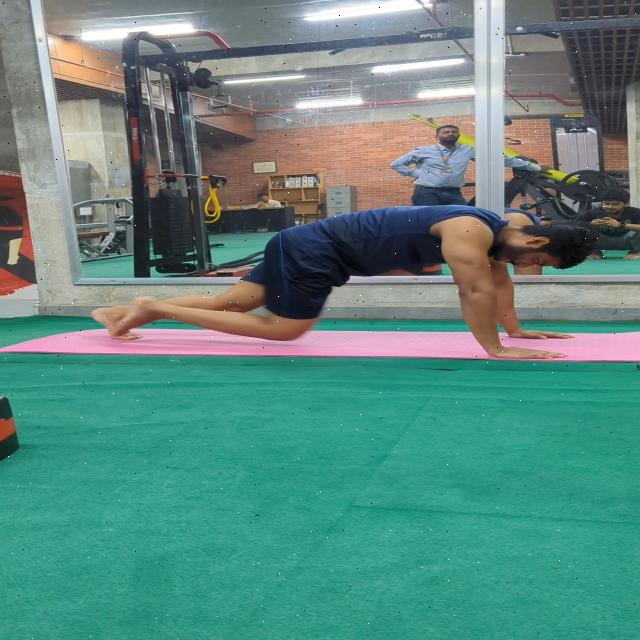Normal_MountainClimbers: (79, 202, 595, 361)
